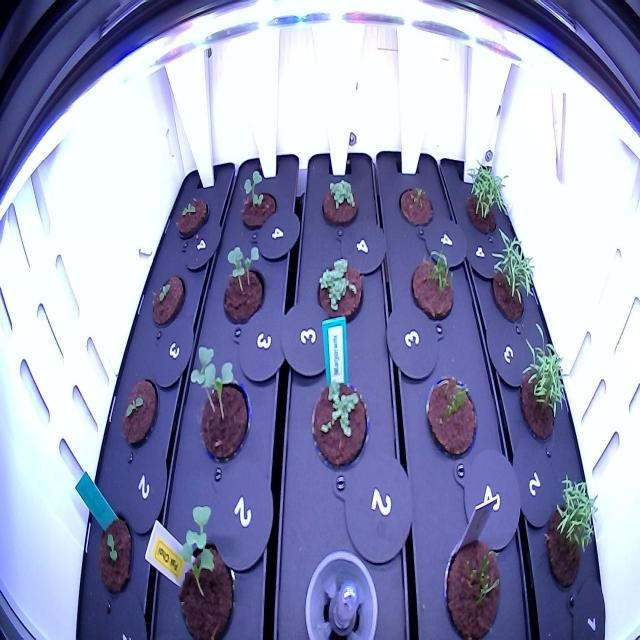germination: (164, 496, 238, 640), (185, 335, 256, 474), (540, 468, 600, 603), (437, 527, 506, 639), (514, 322, 572, 452), (306, 370, 371, 477), (419, 360, 480, 470), (484, 223, 539, 333), (217, 239, 272, 333), (92, 504, 142, 604), (457, 154, 511, 242), (310, 255, 367, 330), (407, 247, 460, 326), (229, 159, 282, 238), (116, 372, 162, 451), (319, 173, 361, 240), (147, 264, 189, 330), (391, 179, 438, 233), (172, 192, 210, 244)
